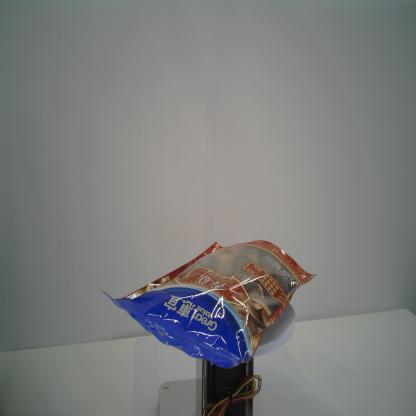Dried Food: (98, 239, 316, 370)
